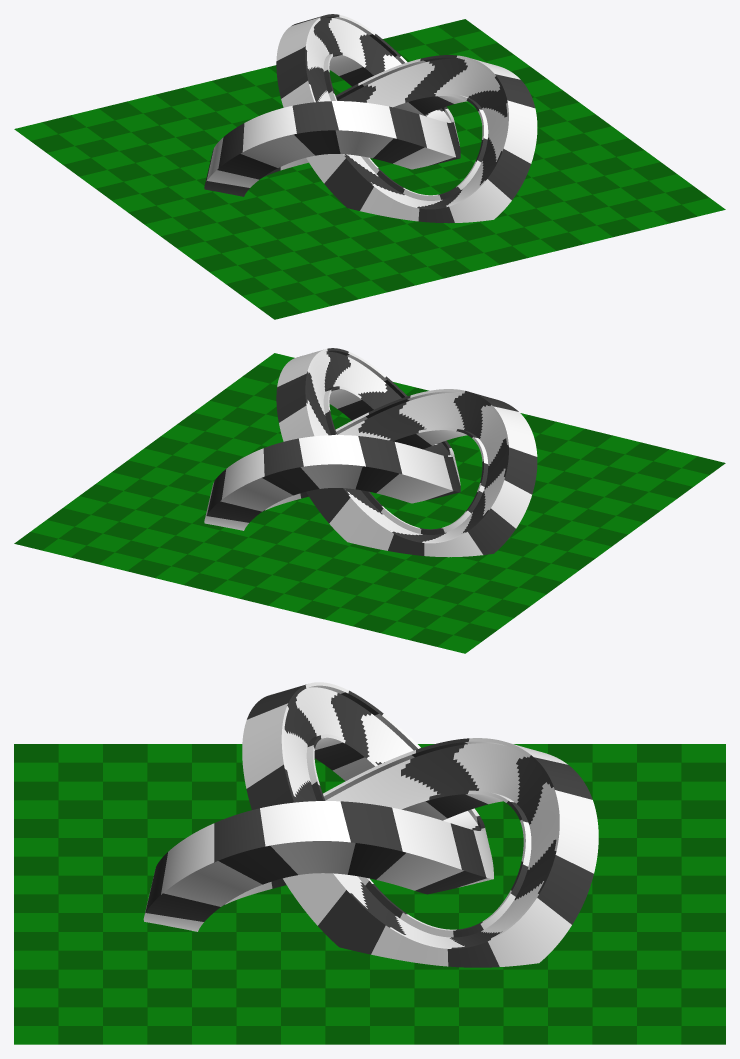
Rendered from TESTES Check.glb.
The picture shows the model from 3 angles, top to bottom: view 1: azimuth 30°, elevation 25°; view 2: azimuth 150°, elevation 25°; view 3: azimuth 270°, elevation 25°; orthographic projection. The views are drawn at different scales.
Visible parts, largest first — view 1: Plane, TorusKnot PISTA TESTE; view 2: Plane, TorusKnot PISTA TESTE; view 3: Plane, TorusKnot PISTA TESTE.
Boxes of the visible parts, bbox=[...] form: Plane: bbox=[14, 19, 725, 319]; TorusKnot PISTA TESTE: bbox=[204, 14, 537, 223]; Plane: bbox=[14, 353, 725, 653]; TorusKnot PISTA TESTE: bbox=[204, 348, 537, 557]; Plane: bbox=[14, 744, 725, 1044]; TorusKnot PISTA TESTE: bbox=[143, 682, 598, 967].
Bounding box in the file's own units: 1900 × 534 × 1900.
